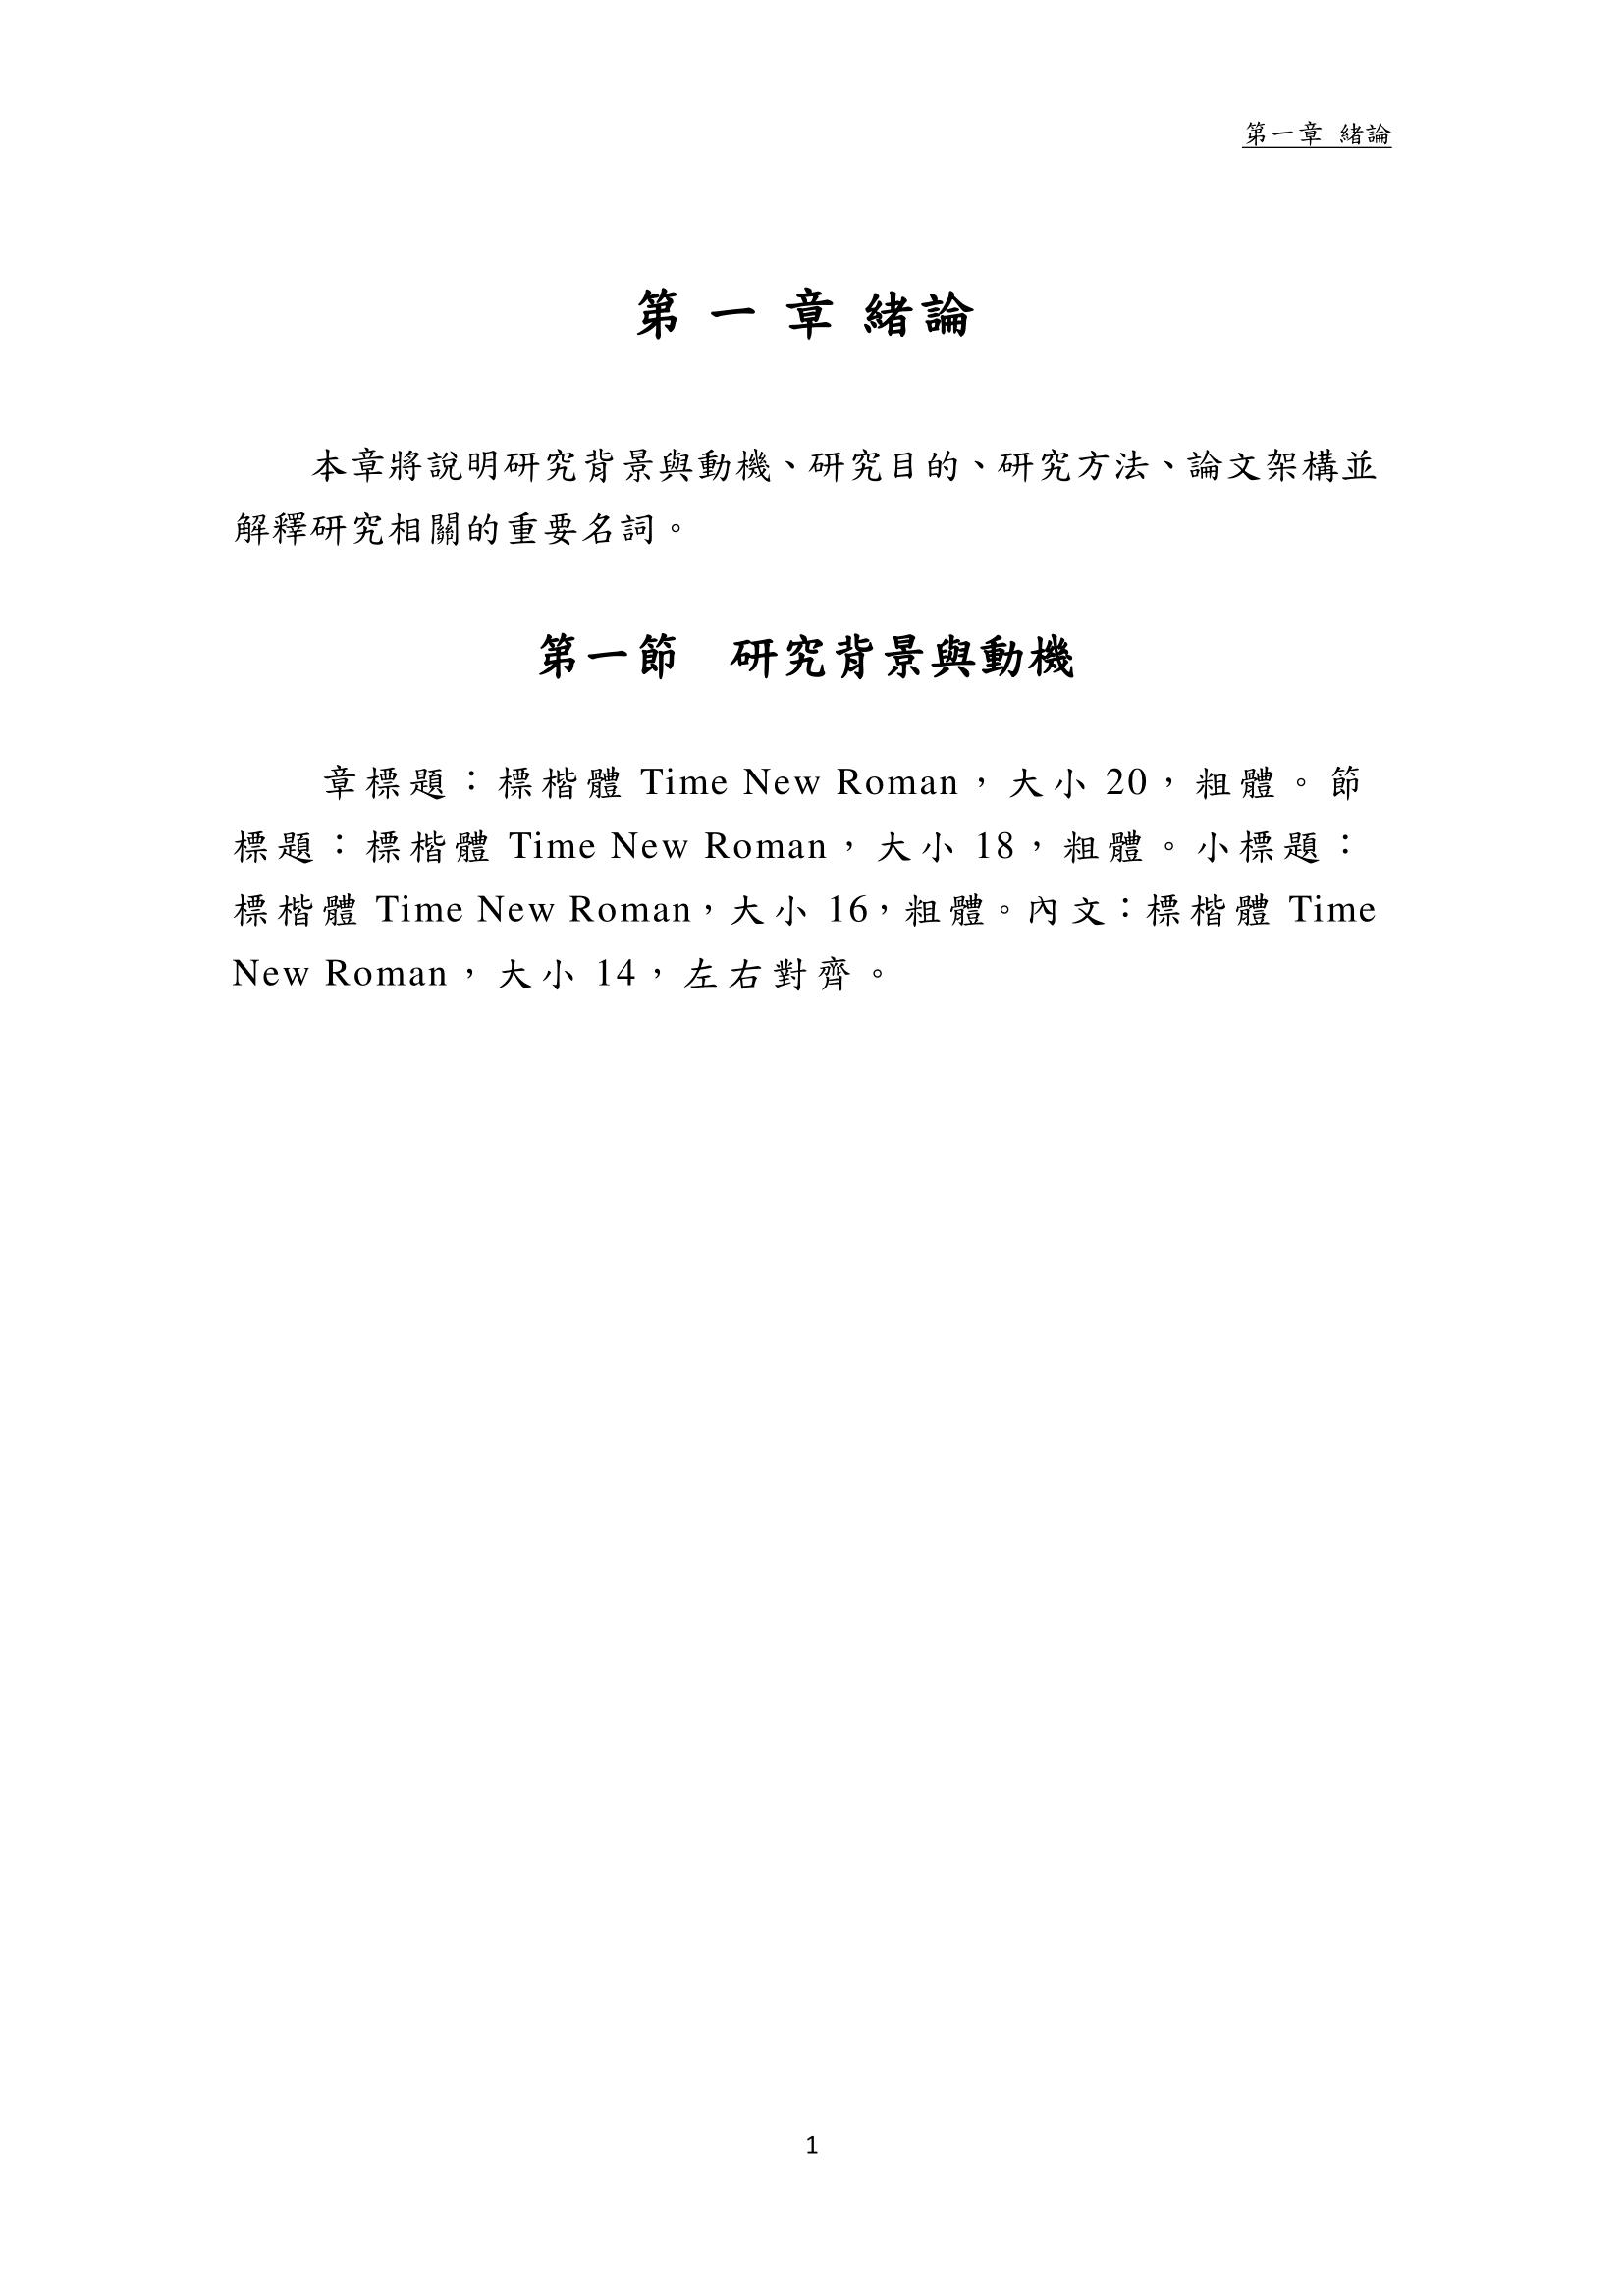text: (211, 745, 1410, 1007), (204, 439, 1397, 569), (513, 613, 1098, 696), (617, 271, 997, 364), (1236, 105, 1411, 165)
